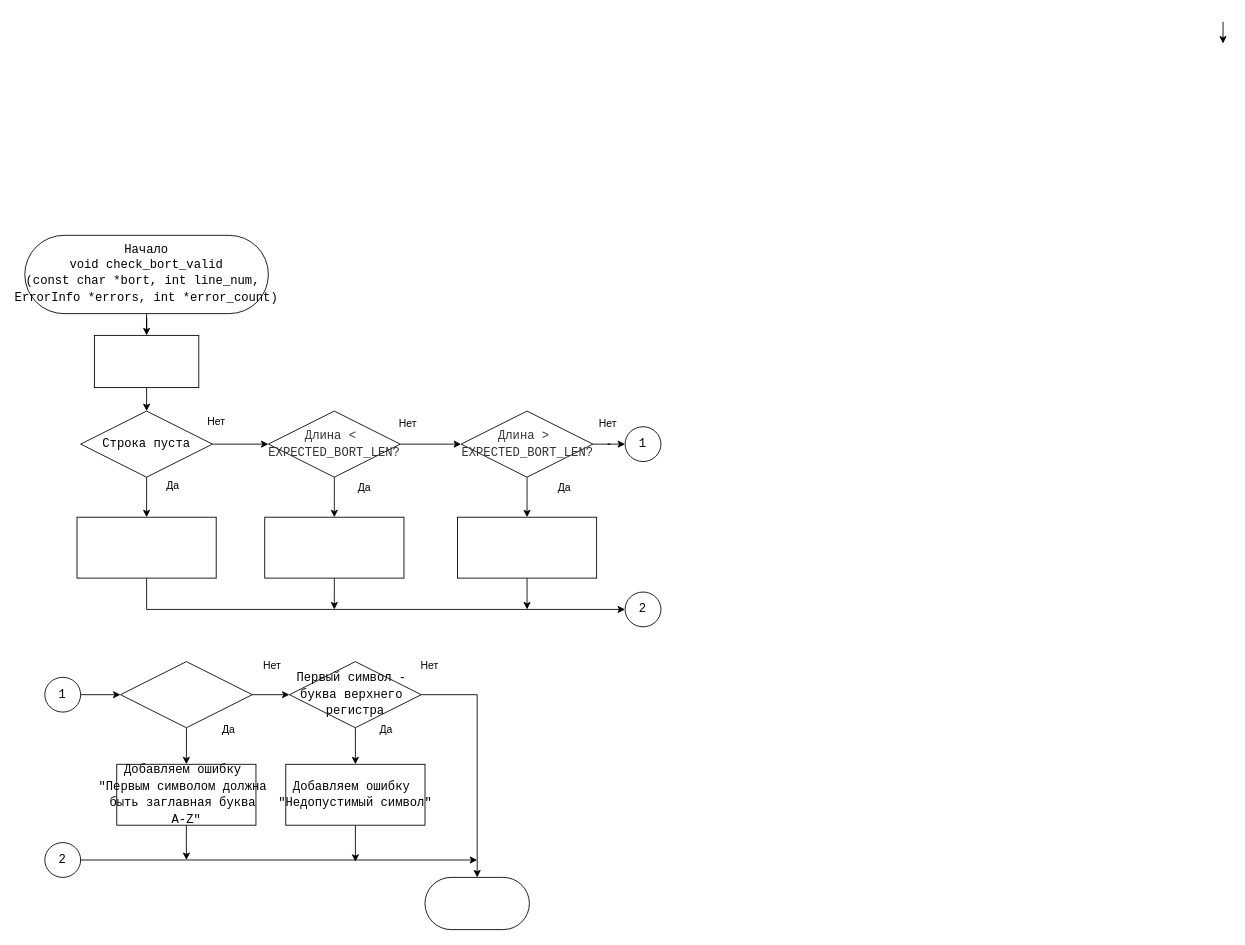
Some shapes in this 1245 by 945 pixel diagram are drawn without their labels. Each missing label, with the centre of its shape:
bort[1] != '-': [186,694]
Добавляем ошибку " Пустое поле ": [146,547]
Добавляем ошибку "Слишком длинный ": [334,547]
Добавляем ошибку "Слишком короткий ": [527,547]
Инициализация переменной: [146,361]
конец: [476,903]
